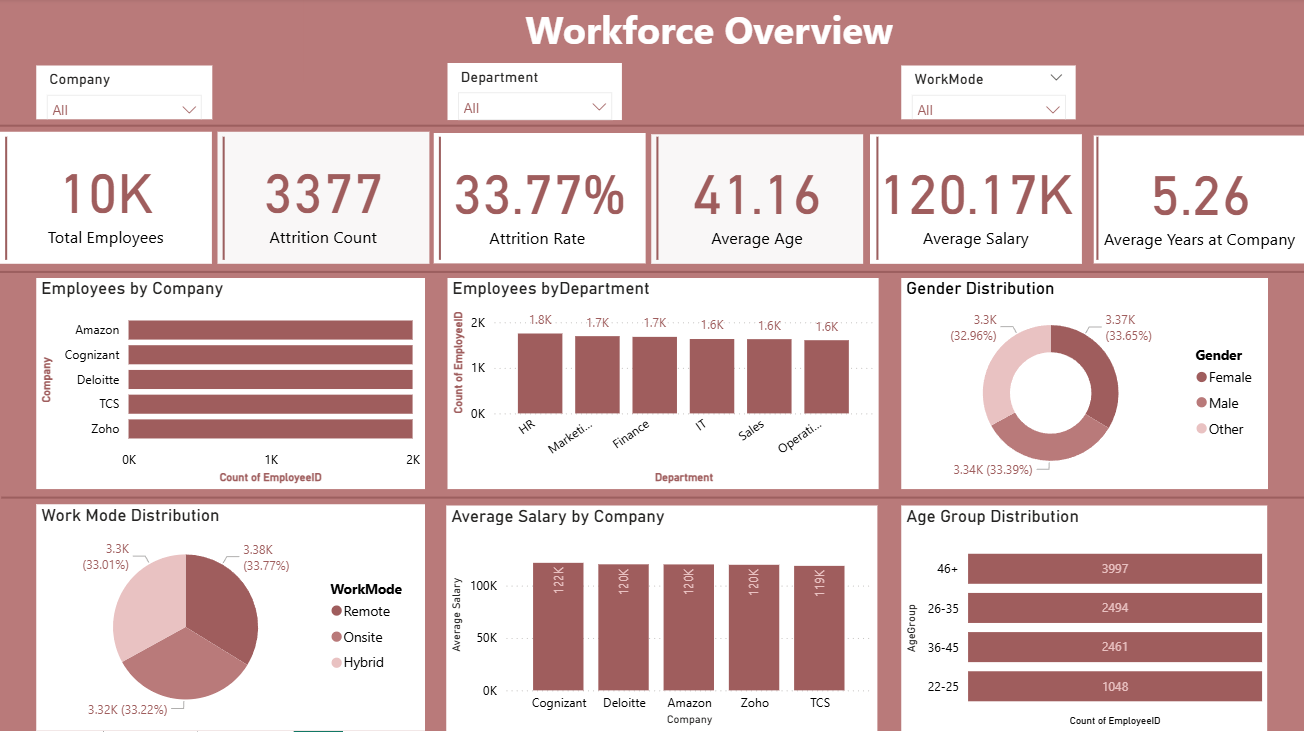

The page's visual inventory and layout, read from the dashboard file:
{"tool":"powerbi","page":{"name":"Page 1","canvas":[1280,720],"ordinal":0},"visuals":[{"type":"clusteredBarChart","title":"Employees by Company","fields":{"Y":["CountNonNull(Combined_Company_Dataset_10k+_columns.EmployeeID)"],"Category":["Combined_Company_Dataset_10k+_columns.Company"]},"box":[35.6,274.7,381.6,206.9],"z":0},{"type":"pieChart","title":"Work Mode Distribution","fields":{"Category":["Combined_Company_Dataset_10k+_columns.WorkMode"],"Y":["CountNonNull(Combined_Company_Dataset_10k+_columns.EmployeeID)"]},"box":[35.6,496.9,381.6,222.1],"z":1000},{"type":"group","id":"g1","title":"Group 1","box":[853.8,134.2,208.1,127.1],"z":2000},{"type":"card","fields":{"Values":["Combined_Company_Dataset_10k+_columns.Average Salary"]},"box":[853.8,134.2,208.1,127.1],"z":3000,"group":"g2"},{"type":"clusteredColumnChart","title":"Employees byDepartment","fields":{"Category":["Combined_Company_Dataset_10k+_columns.Department"],"Y":["CountNonNull(Combined_Company_Dataset_10k+_columns.EmployeeID)"]},"box":[439.1,274.7,423,206.9],"z":3000},{"type":"columnChart","fields":{"Category":["Combined_Company_Dataset_10k+_columns.Company"],"Y":["Combined_Company_Dataset_10k+_columns.Average Salary"]},"box":[438,498.5,423.5,221.4],"z":4000},{"type":"group","id":"g2","title":"Group 4","box":[853.8,134.2,208.1,127.1],"z":4001,"group":"g1"},{"type":"donutChart","title":"Gender Distribution","fields":{"Category":["Combined_Company_Dataset_10k+_columns.Gender"],"Y":["CountNonNull(Combined_Company_Dataset_10k+_columns.EmployeeID)"]},"box":[885.1,274.7,359.8,206.9],"z":5000},{"type":"hundredPercentStackedBarChart","title":"Age Group Distribution","fields":{"Category":["Combined_Company_Dataset_10k+_columns.AgeGroup"],"Y":["CountNonNull(Combined_Company_Dataset_10k+_columns.EmployeeID)"]},"box":[884.6,498.5,359.4,221.4],"z":6000},{"type":"card","fields":{"Values":["Combined_Company_Dataset_10k+_columns.Average Years at Company"]},"box":[1073.5,134.5,208.1,125.8],"z":7000},{"type":"card","fields":{"Values":["Combined_Company_Dataset_10k+_columns.Average Age"]},"box":[639.7,134.2,208.1,127.1],"z":8000},{"type":"card","fields":{"Values":["Combined_Company_Dataset_10k+_columns.Attrition Rate %","select"]},"box":[425.5,133,208.1,128.3],"z":9000},{"type":"card","fields":{"Values":["Combined_Company_Dataset_10k+_columns.Attrition Count"]},"box":[213.7,131.8,208.1,129.5],"z":10000},{"type":"card","fields":{"Values":["Combined_Company_Dataset_10k+_columns.Total Employees"]},"box":[-0.5,131.8,208.1,129.5],"z":11000},{"type":"textbox","box":[297.7,0,796.2,82.3],"z":12000},{"type":"shape","box":[-0.5,136.6,12.1,121],"z":13000},{"type":"shape","box":[213.7,136.6,12.1,121],"z":14000},{"type":"shape","box":[855.1,136.6,12.1,121],"z":15000},{"type":"shape","box":[639.7,136.6,12.1,121],"z":16000},{"type":"shape","box":[425.5,136.6,12.1,121],"z":17000},{"type":"shape","box":[1071.7,136.6,12.1,121],"z":18000},{"type":"shape","box":[0,262.1,1280.5,12.6],"z":19000},{"type":"shape","box":[0,119.5,1280.5,12.6],"z":20000},{"type":"shape","box":[1.1,485.1,1279.3,11.5],"z":21000},{"type":"slicer","fields":{"Values":["Combined_Company_Dataset_10k+_columns.WorkMode"]},"box":[885.1,66.7,171.3,52.9],"z":22000},{"type":"slicer","fields":{"Values":["Combined_Company_Dataset_10k+_columns.Company"]},"box":[35.6,66.7,172.4,52.9],"z":23000},{"type":"slicer","fields":{"Values":["Combined_Company_Dataset_10k+_columns.Department"]},"box":[439.1,63.2,171.3,56.3],"z":24000}]}

Visuals, with their boxes in screenshot pixels (x1, y1, x2, y2), scaled from the page's 1280x720 canvas onto the 1304x732 screenshot:
"Employees by Company" clusteredBarChart: (36,279,425,490)
"Work Mode Distribution" pieChart: (36,505,425,731)
"Group 1" group: (870,136,1082,266)
card - Combined_Company_Dataset_10k+_columns.Average Salary: (870,136,1082,266)
"Employees byDepartment" clusteredColumnChart: (447,279,878,490)
columnChart - Combined_Company_Dataset_10k+_columns.Company x Combined_Company_Dataset_10k+_columns.Average Salary: (446,507,878,731)
"Group 4" group: (870,136,1082,266)
"Gender Distribution" donutChart: (902,279,1268,490)
"Age Group Distribution" hundredPercentStackedBarChart: (901,507,1267,731)
card - Combined_Company_Dataset_10k+_columns.Average Years at Company: (1094,137,1303,265)
card - Combined_Company_Dataset_10k+_columns.Average Age: (652,136,864,266)
card - Combined_Company_Dataset_10k+_columns.Attrition Rate % x select: (433,135,645,266)
card - Combined_Company_Dataset_10k+_columns.Attrition Count: (218,134,430,266)
card - Combined_Company_Dataset_10k+_columns.Total Employees: (0,134,211,266)
textbox: (303,0,1114,84)
shape: (0,139,12,262)
shape: (218,139,230,262)
shape: (871,139,883,262)
shape: (652,139,664,262)
shape: (433,139,446,262)
shape: (1092,139,1104,262)
shape: (0,266,1303,279)
shape: (0,121,1303,134)
shape: (1,493,1303,505)
slicer - Combined_Company_Dataset_10k+_columns.WorkMode: (902,68,1076,122)
slicer - Combined_Company_Dataset_10k+_columns.Company: (36,68,212,122)
slicer - Combined_Company_Dataset_10k+_columns.Department: (447,64,622,121)
